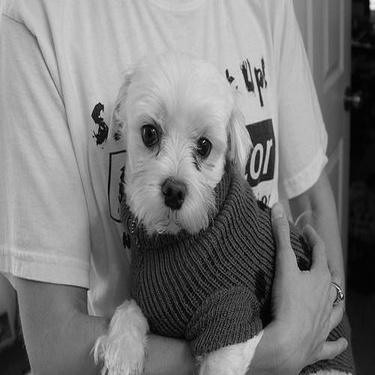dog: (69, 43, 360, 374)
